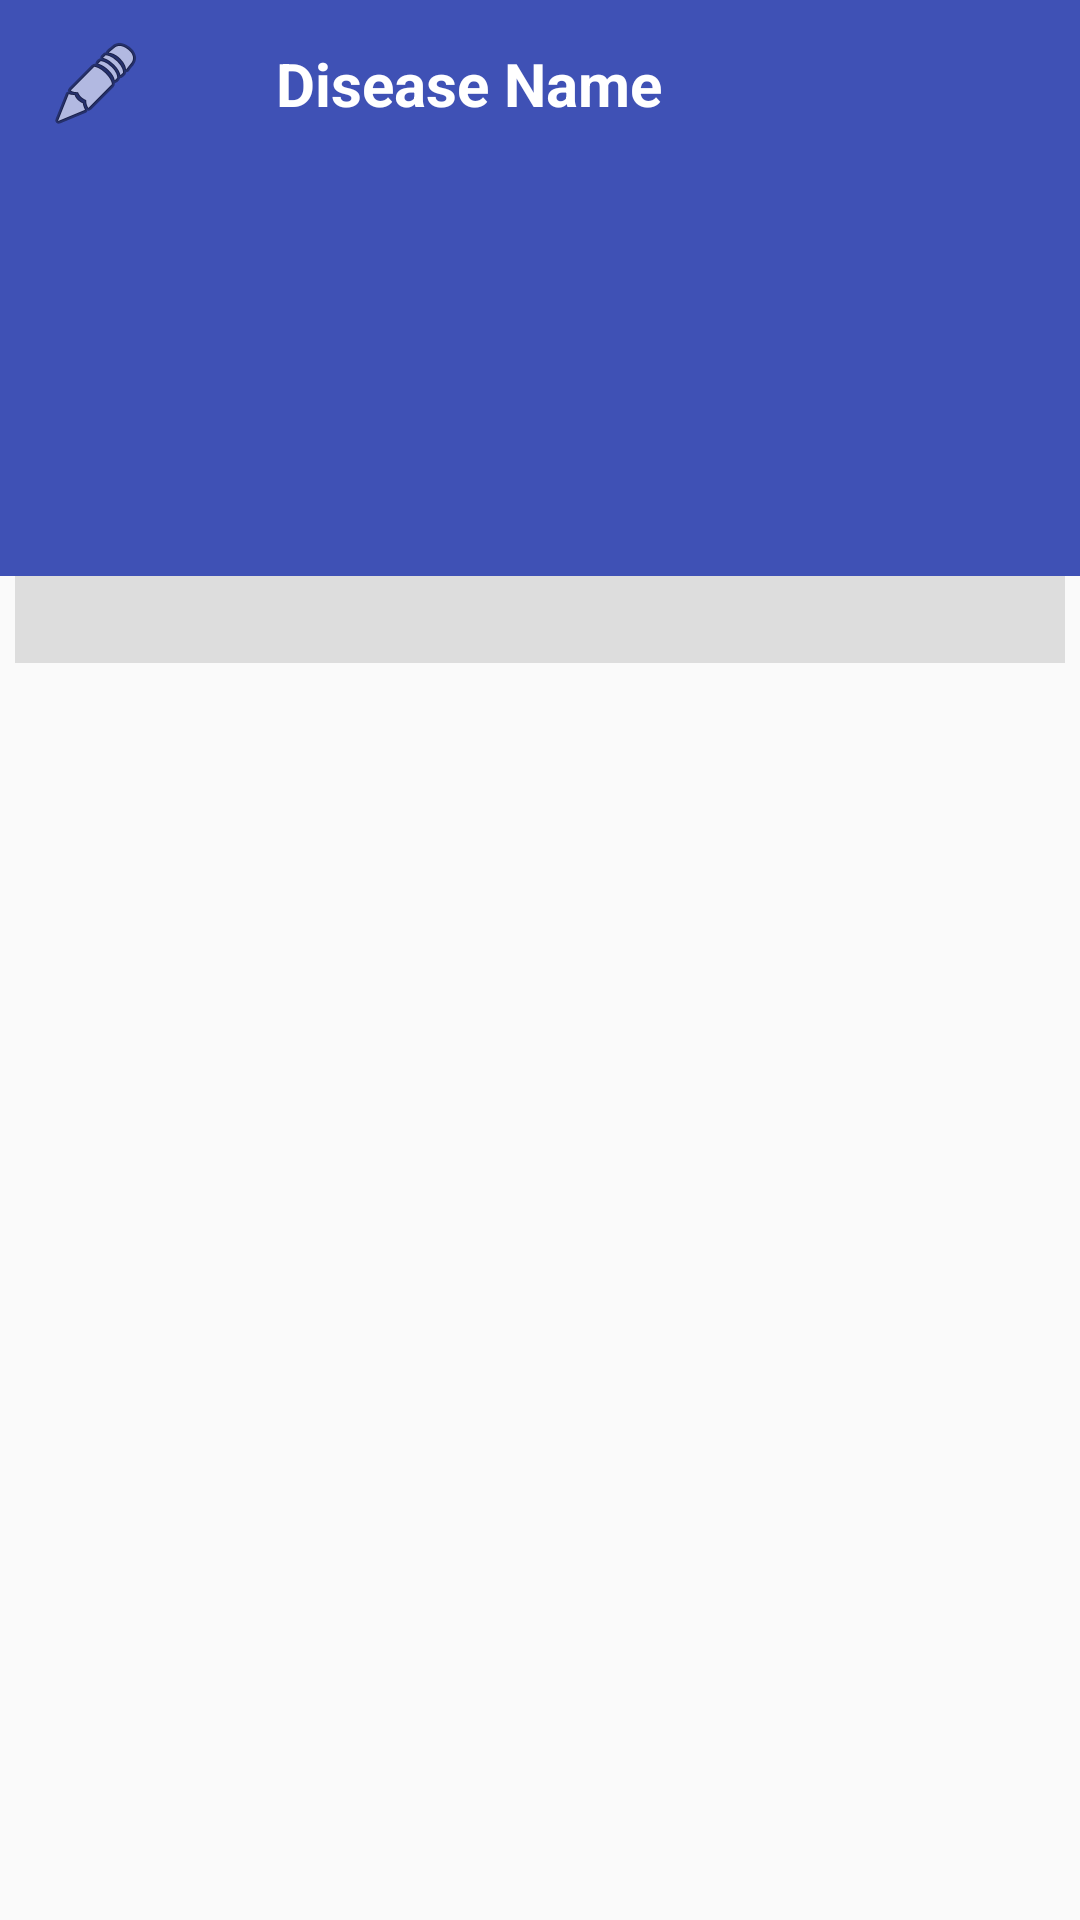

Icon bounding boxes for this 1080 x 1920 phone screenshot, format (x1, y1, x2, y2):
edit: (55, 43, 136, 124)
